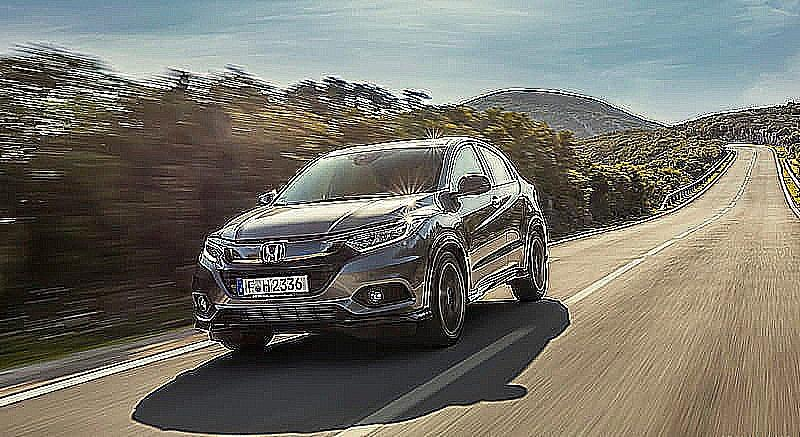Car hood: (215, 190, 434, 245)
Fender - -F-L-: (422, 166, 469, 302)
Front bumper: (195, 240, 439, 337)
Headlight - -L-: (336, 217, 414, 264)
Headlight - -R-: (201, 230, 228, 264)
Passenger-s door - -F-L-: (441, 115, 515, 329)
Passenger-s door - -R-L-: (471, 132, 527, 291)
Side bumper - -L-: (465, 254, 529, 322)
Side mirror - -L-: (443, 171, 493, 214)
Side mirror - -R-: (255, 189, 282, 211)
